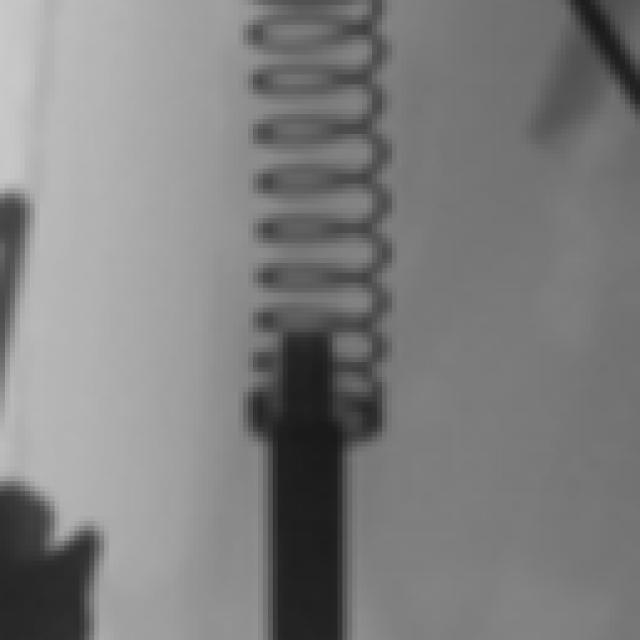GUN: (263, 310, 354, 640)
